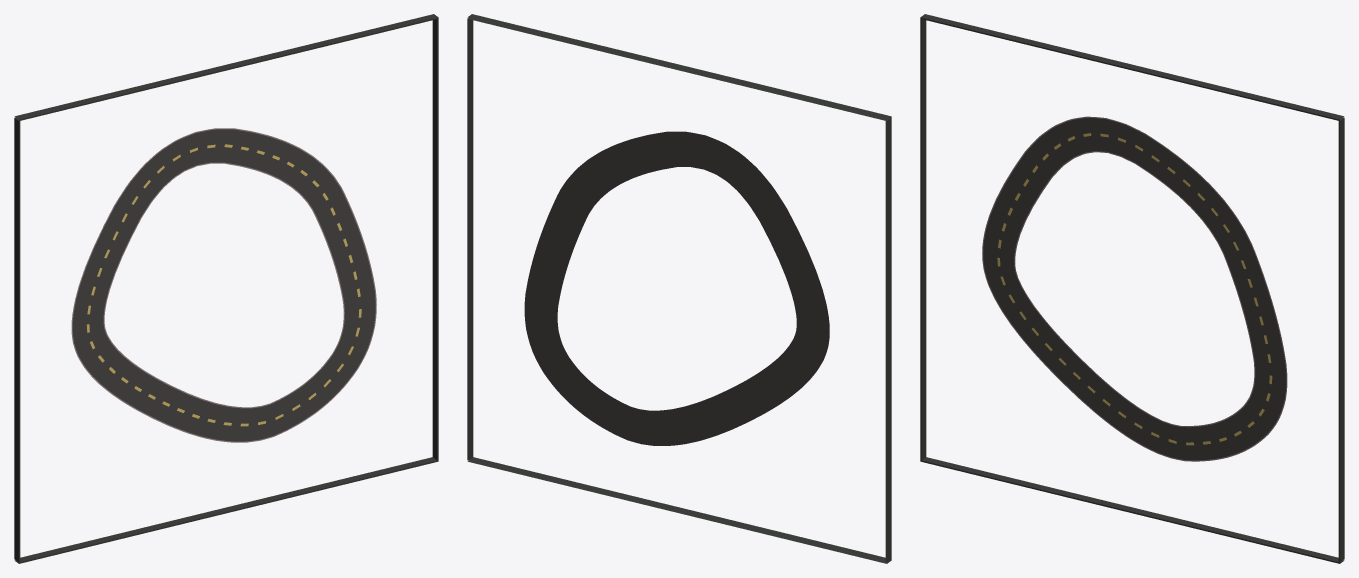
Rendered from track.obj.
The picture shows the model from 3 angles, left to right: view 1: azimuth 30°, elevation 25°; view 2: azimuth 150°, elevation 25°; view 3: azimuth 330°, elevation 25°; orthographic projection.
Bounding box in the file's own units: 15.54 × 15.72 × 0.3.
